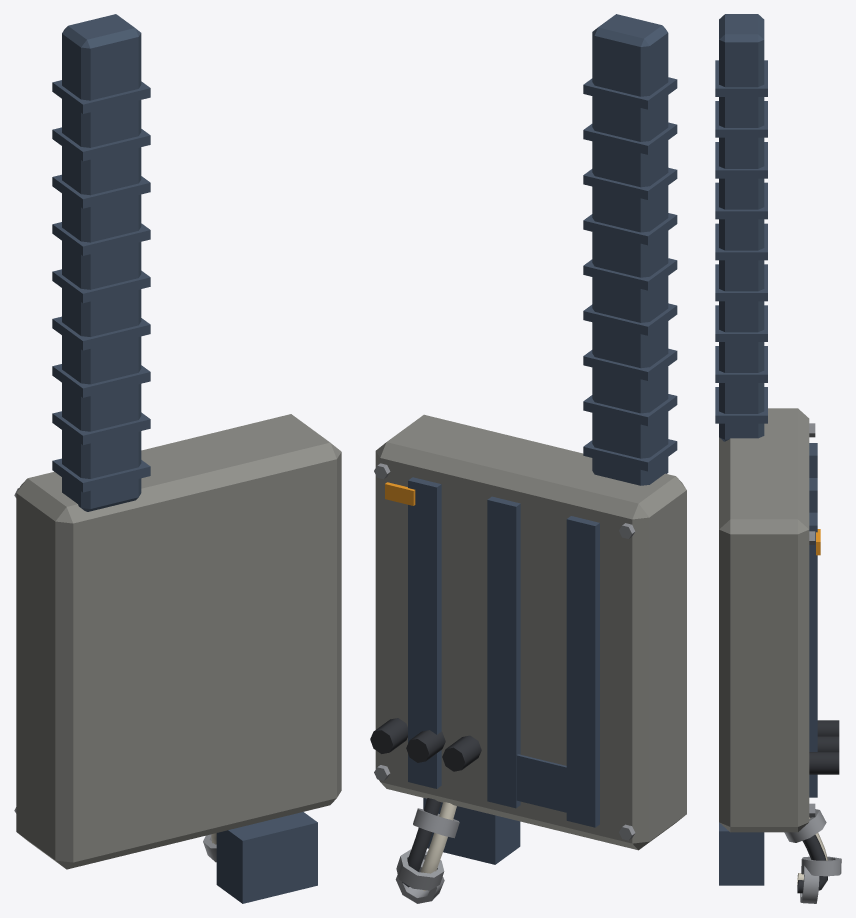
The model's file is pb8_ignition.obj.
3 renders of one model, left to right at view 1: azimuth 30°, elevation 25°; view 2: azimuth 150°, elevation 25°; view 3: azimuth 270°, elevation 25°, orthographic. The views are drawn at different scales.
Visible parts, largest first — view 1: pb8_ignition; view 2: pb8_ignition; view 3: pb8_ignition.
Boxes of the visible parts, box(x1,y1,x2,y2) form: pb8_ignition: box(14, 14, 341, 903); pb8_ignition: box(370, 14, 686, 903); pb8_ignition: box(715, 14, 841, 903).
Size of the model in its own units: 0.38 by 1.18 by 0.1681.
